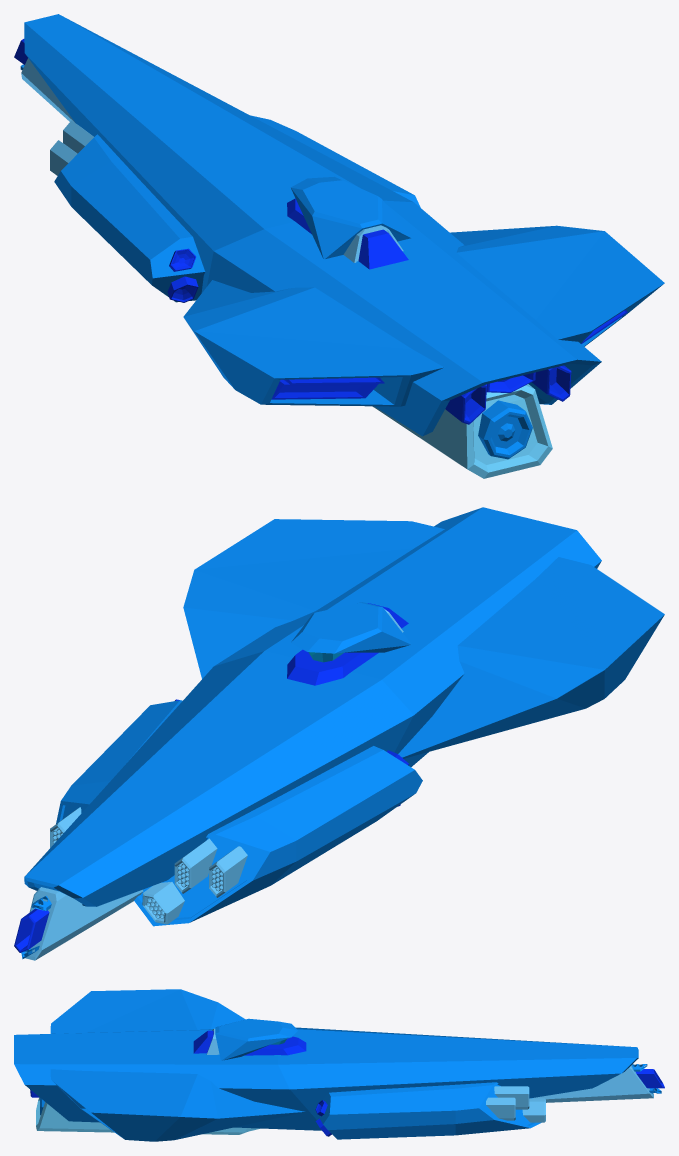
The model's file is spaceship.glb.
3 views of the same model, one above another, from view 1: azimuth 30°, elevation 25°; view 2: azimuth 150°, elevation 25°; view 3: azimuth 270°, elevation 25° (orthographic). The views are drawn at different scales.
Parts seen in each view (by area): view 1: Cube.001_0, Cube.004_6, Cube.011_23, Cylinder.002_5, Cylinder.004_8, Cube_1, Cylinder.009_15, Cube.008_17, Cylinder.021_26, Cube.006_12, Cylinder.008_14, Cylinder.020_27 (+1 smaller); view 2: Cube.001_0, Cube.004_6, Cube.011_23, Cylinder.002_5, Cylinder.004_8, Cylinder.021_26, Cube.002_2, Cylinder.003_7, Cylinder.010_20, Cylinder.014_22, Cylinder.013_21, Cylinder_3; view 3: Cube.001_0, Cube.011_23, Cylinder.021_26, Cube.004_6, Cylinder.004_8, Cube.002_2, Cube_1, Cylinder.003_7, Cylinder.019_28, Cylinder.016_31, Cylinder.015_32, Cylinder_3 (+1 smaller).
Boxes of the visible parts, <box> form: Cube.001_0: <box>24,14,601,436</box>; Cube.004_6: <box>183,280,444,406</box>; Cube.011_23: <box>450,225,664,346</box>; Cylinder.002_5: <box>54,134,205,302</box>; Cylinder.004_8: <box>290,176,411,259</box>; Cube_1: <box>372,384,552,478</box>; Cylinder.009_15: <box>478,400,532,459</box>; Cube.008_17: <box>271,379,378,399</box>; Cylinder.021_26: <box>250,115,420,207</box>; Cube.006_12: <box>358,229,408,269</box>; Cylinder.008_14: <box>445,384,486,424</box>; Cylinder.020_27: <box>532,365,571,401</box>; Cube.001_0: <box>24,507,601,906</box>; Cube.004_6: <box>398,557,664,758</box>; Cube.011_23: <box>183,519,444,678</box>; Cylinder.002_5: <box>134,746,422,926</box>; Cylinder.004_8: <box>291,602,411,653</box>; Cylinder.021_26: <box>56,700,182,823</box>; Cube.002_2: <box>25,887,143,960</box>; Cylinder.003_7: <box>287,649,378,685</box>; Cylinder.010_20: <box>174,838,217,893</box>; Cylinder.014_22: <box>142,882,184,924</box>; Cylinder.013_21: <box>209,846,247,897</box>; Cylinder_3: <box>14,908,49,952</box>; Cube.001_0: <box>14,1027,638,1130</box>; Cube.011_23: <box>50,1069,304,1141</box>; Cylinder.021_26: <box>315,1082,541,1139</box>; Cube.004_6: <box>50,989,245,1033</box>; Cylinder.004_8: <box>215,1018,297,1060</box>; Cube.002_2: <box>533,1064,653,1102</box>; Cube_1: <box>36,1097,259,1134</box>; Cylinder.003_7: <box>244,1036,306,1055</box>; Cylinder.019_28: <box>494,1086,529,1109</box>; Cylinder.016_31: <box>486,1097,515,1120</box>; Cylinder.015_32: <box>522,1098,545,1122</box>; Cylinder_3: <box>636,1069,664,1088</box>.
Bounding box in the file's own units: 255 × 89.95 × 549.
